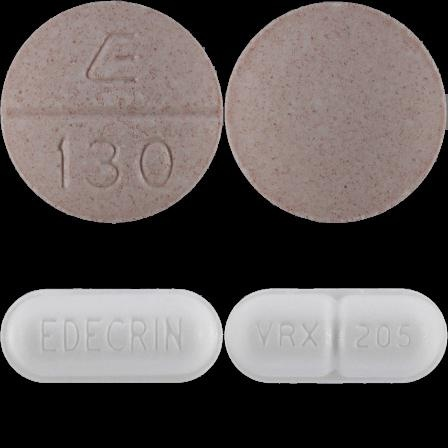69189-0346: (0, 0, 224, 224)
